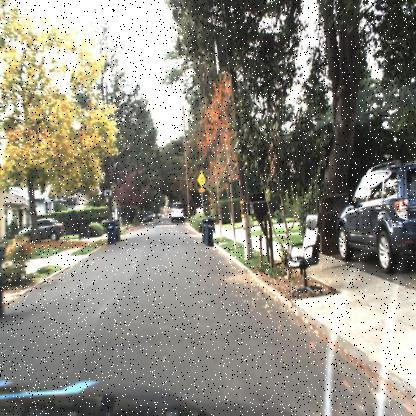car: (18, 209, 65, 248), (168, 199, 185, 224), (169, 201, 185, 222), (140, 208, 154, 227)
